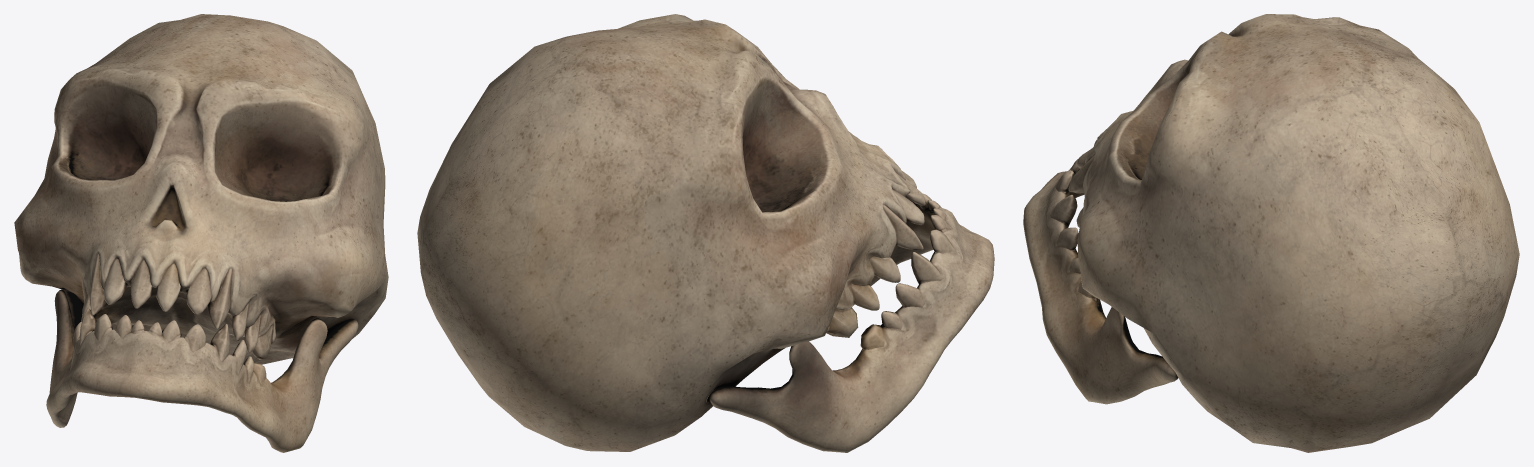
File: HumanSkull.glb
The picture shows the model from 3 angles, left to right: view 1: azimuth 30°, elevation 25°; view 2: azimuth 150°, elevation 25°; view 3: azimuth 270°, elevation 25°; orthographic projection. The views are drawn at different scales.
Parts seen in each view (by area): view 1: Object_5; view 2: Object_5; view 3: Object_5.
Part boxes in pixels (bbox=[...]): Object_5: bbox=[14, 14, 388, 452]; Object_5: bbox=[417, 14, 994, 452]; Object_5: bbox=[1023, 14, 1519, 452].
Bounding box in the file's own units: 2.29 × 1.92 × 2.3.
Materials: 1 (1 with a texture image).
